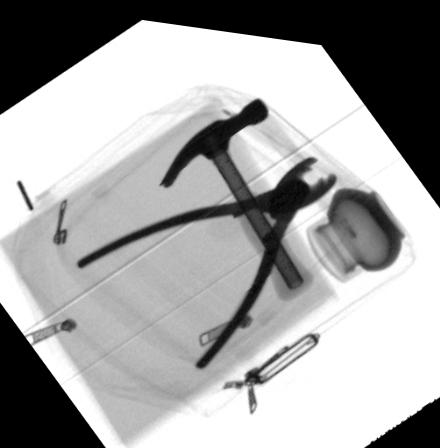Hammer: (158, 87, 313, 293)
Pliers: (75, 146, 339, 363)
